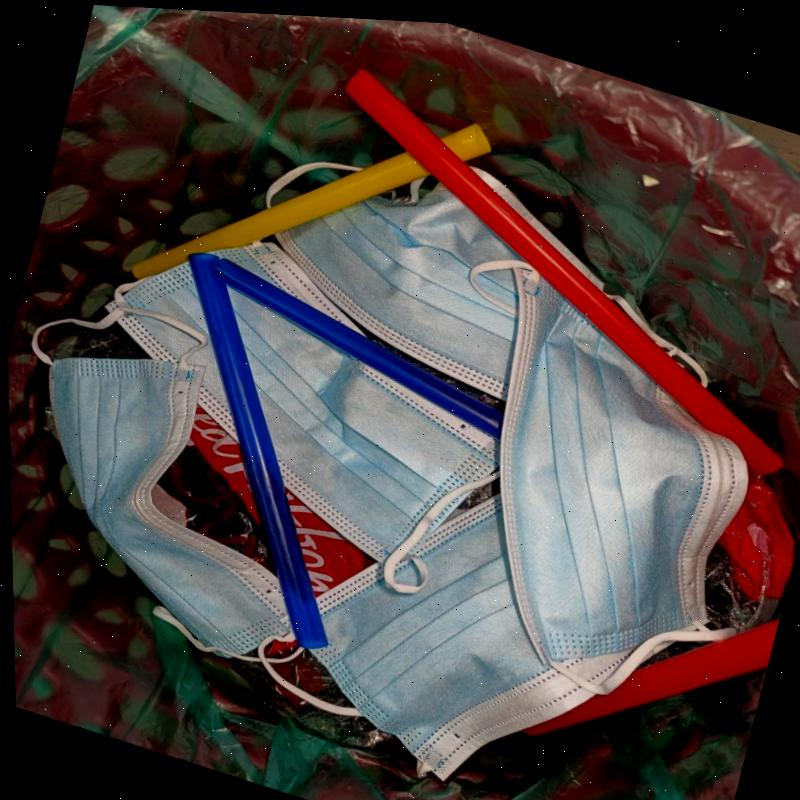facemask: (498, 267, 747, 659), (308, 493, 632, 779), (227, 283, 496, 556), (50, 358, 289, 660), (275, 179, 530, 396)
plastic bottle: (162, 488, 165, 490)
plastic straw: (342, 63, 786, 478), (130, 122, 490, 280), (189, 249, 329, 649), (222, 255, 502, 439), (523, 619, 776, 734)
